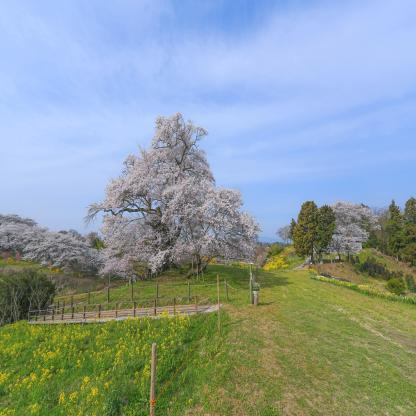EdohiganSakura: (82, 111, 264, 275)
